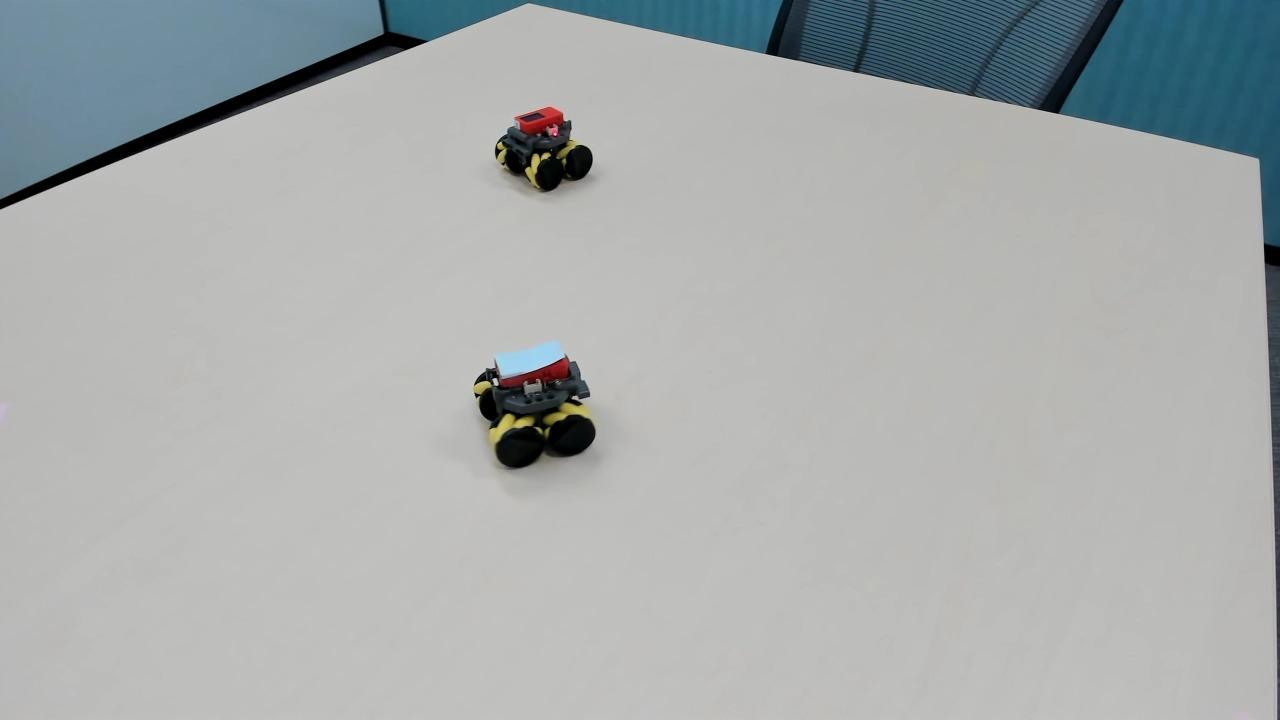B-Robot: (466, 323, 608, 501)
R-Robot: (478, 84, 606, 206)
